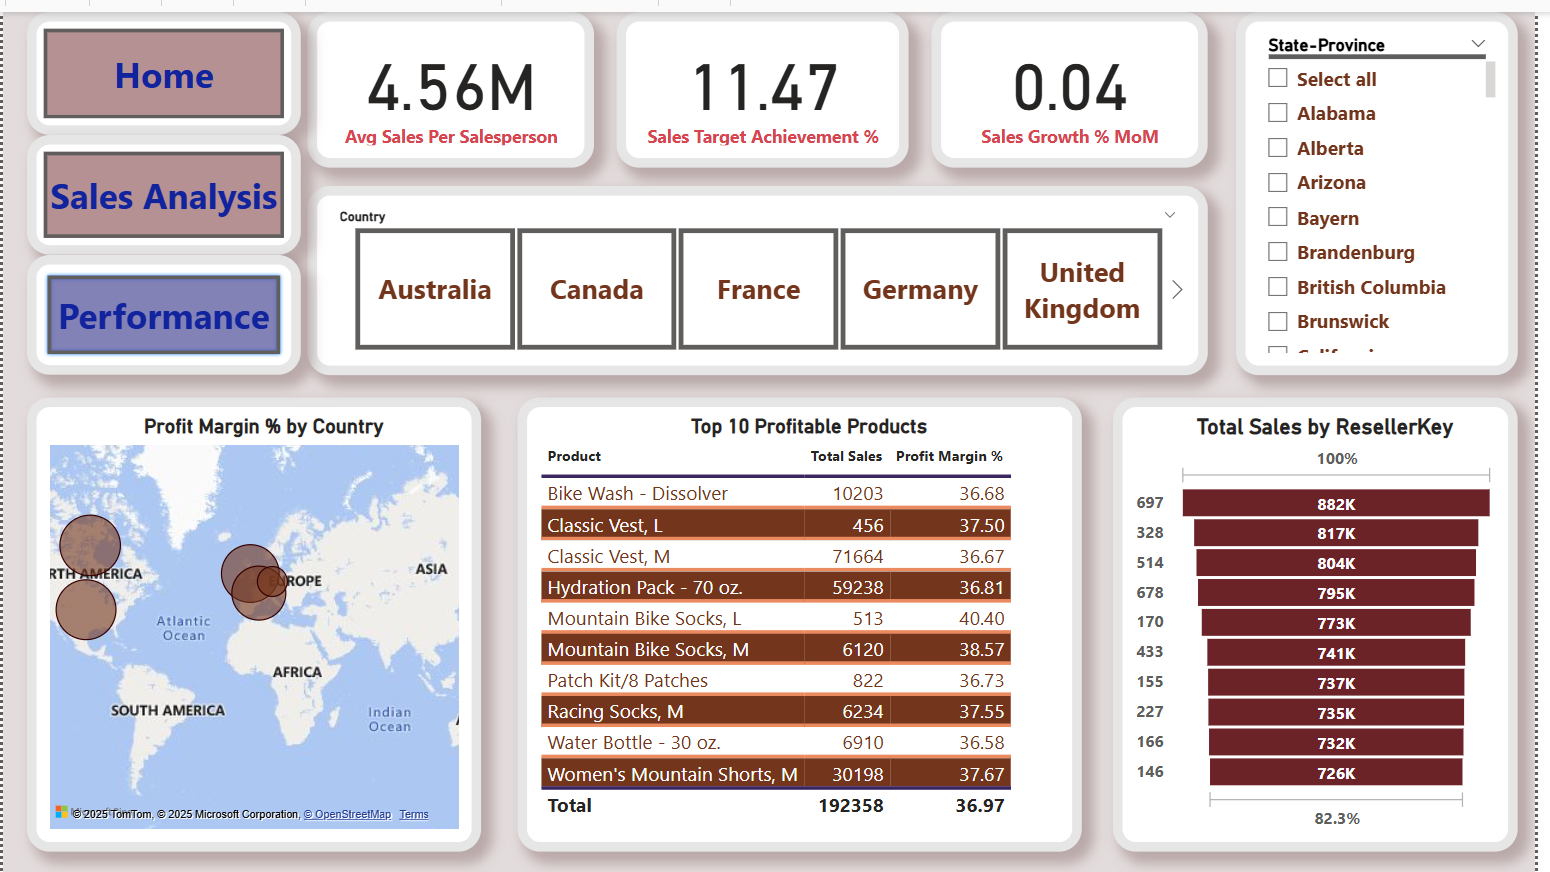

The dashboard page shown, as its layout file describes it:
{"tool":"powerbi","page":{"name":"Performance Tracking","canvas":[1280,720],"ordinal":2},"visuals":[{"type":"card","fields":{"Values":["Sales.Avg Sales Per Salesperson"]},"box":[254.3,0,239.3,130.3],"z":0},{"type":"card","fields":{"Values":["Sales.Sales Target Achievement %"]},"box":[512.4,0,244.3,130.3],"z":1000},{"type":"card","fields":{"Values":["Sales.Sales Growth % MoM"]},"box":[775.6,0,230.5,130.3],"z":2000},{"type":"funnel","fields":{"Category":["Reseller.ResellerKey"],"Y":["Sales.Total Sales"]},"box":[927.2,322,338.3,379.6],"z":3000},{"type":"tableEx","title":"Top 10 Profitable Products","fields":{"Values":["Product.Product","Sales.Total Sales","Sales.Profit Margin %"]},"box":[429.8,322,471.1,379.6],"z":4000},{"type":"map","fields":{"Category":["Regions.Country"],"Size":["Sales.Profit Margin %"]},"box":[20,322,379.6,379.6],"z":5000},{"type":"slicer","fields":{"Values":["Regions.Country"]},"box":[254.3,145.3,751.8,157.9],"z":6000},{"type":"slicer","fields":{"Values":["Reseller.State-Province"]},"box":[1029.9,0,235.5,303.2],"z":7000},{"type":"actionButton","box":[19.7,0,228.6,103],"z":8000},{"type":"actionButton","box":[19.7,103,228.6,99.9],"z":9000},{"type":"actionButton","box":[19.7,202.9,228.6,99.9],"z":10000}]}

Visuals, with their boxes in screenshot pixels (x1, y1, x2, y2), scaled from the page's 1280x720 canvas onto the 1550x872 screenshot:
card - Sales.Avg Sales Per Salesperson: [left=308, top=0, right=598, bottom=158]
card - Sales.Sales Target Achievement %: [left=620, top=0, right=916, bottom=158]
card - Sales.Sales Growth % MoM: [left=939, top=0, right=1218, bottom=158]
funnel - Reseller.ResellerKey x Sales.Total Sales: [left=1123, top=390, right=1532, bottom=850]
"Top 10 Profitable Products" tableEx: [left=520, top=390, right=1091, bottom=850]
map - Regions.Country x Sales.Profit Margin %: [left=24, top=390, right=484, bottom=850]
slicer - Regions.Country: [left=308, top=176, right=1218, bottom=367]
slicer - Reseller.State-Province: [left=1247, top=0, right=1532, bottom=367]
actionButton: [left=24, top=0, right=301, bottom=125]
actionButton: [left=24, top=125, right=301, bottom=246]
actionButton: [left=24, top=246, right=301, bottom=367]
